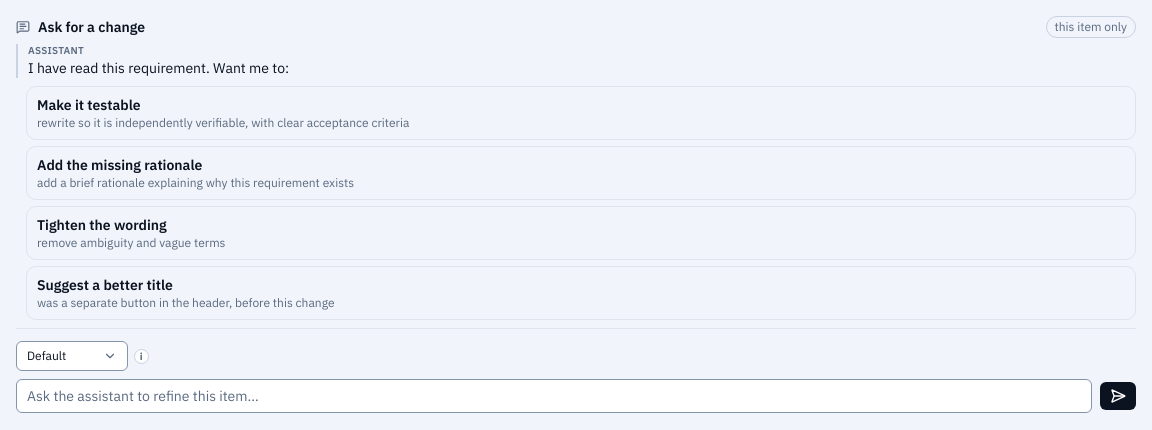
ChatPanel › sends a message and appends it to history optimistically
Type "make this testable" into the field with placeholder "Ask the assistant to refine this item…" at (554, 396), box [16,379,1092,413]
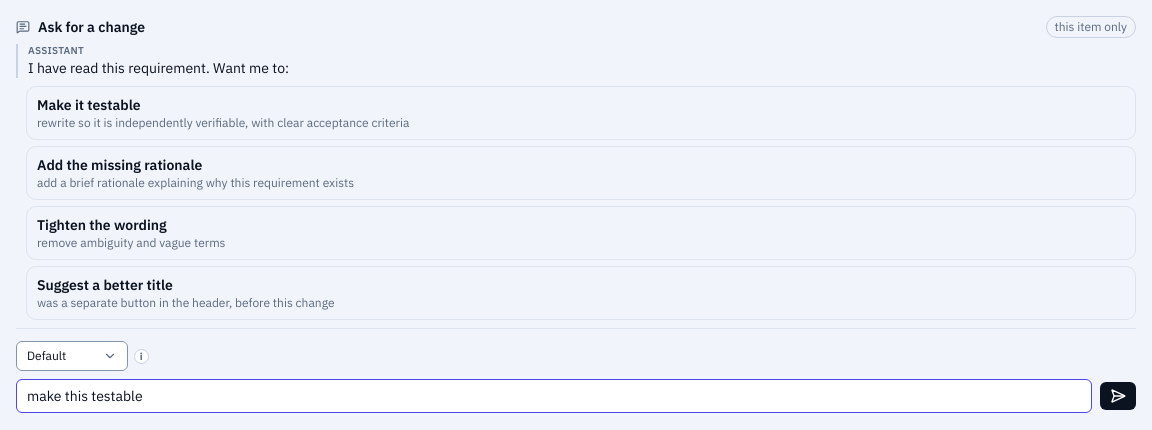
Click the button named "send" at (1118, 396), box [1100,382,1136,410]
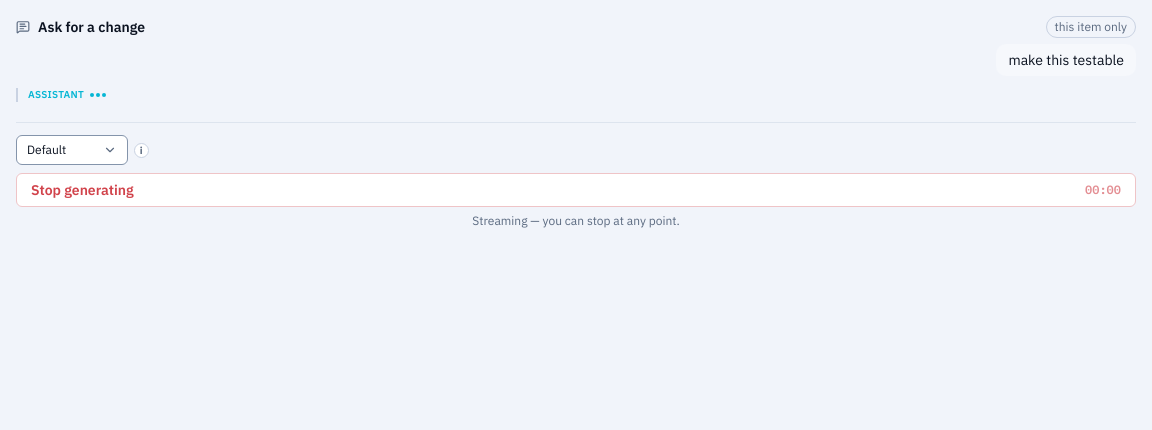
Expected: the text "make this testable" is shown, [996,44,1136,76]
